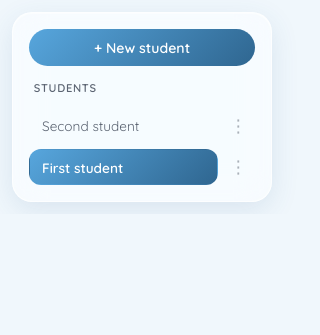
Test: Sidebar › options menu › opens the menu with Rename, Share, and Delete
What coordinates should you click on to do the following:
click the button named "Options for First student"
I would click on:
 (238, 167)
Its box is [221,154,255,181].
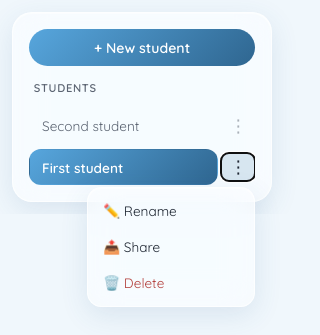
Expected: the menu item "✏️ Rename" is shown, [94,193,248,228]
Expected: the menu item "📤 Share" is shown, [94,229,248,264]
Expected: the menu item "🗑️ Delete" is shown, [94,266,248,300]
